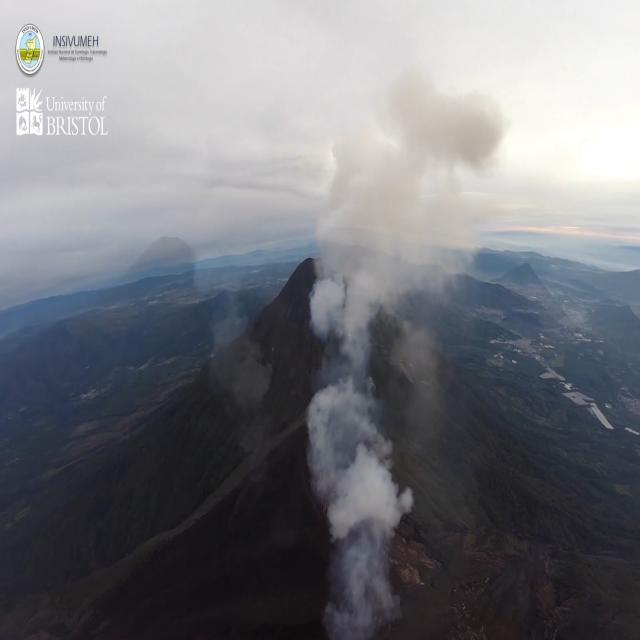Plume: (291, 57, 515, 640)
